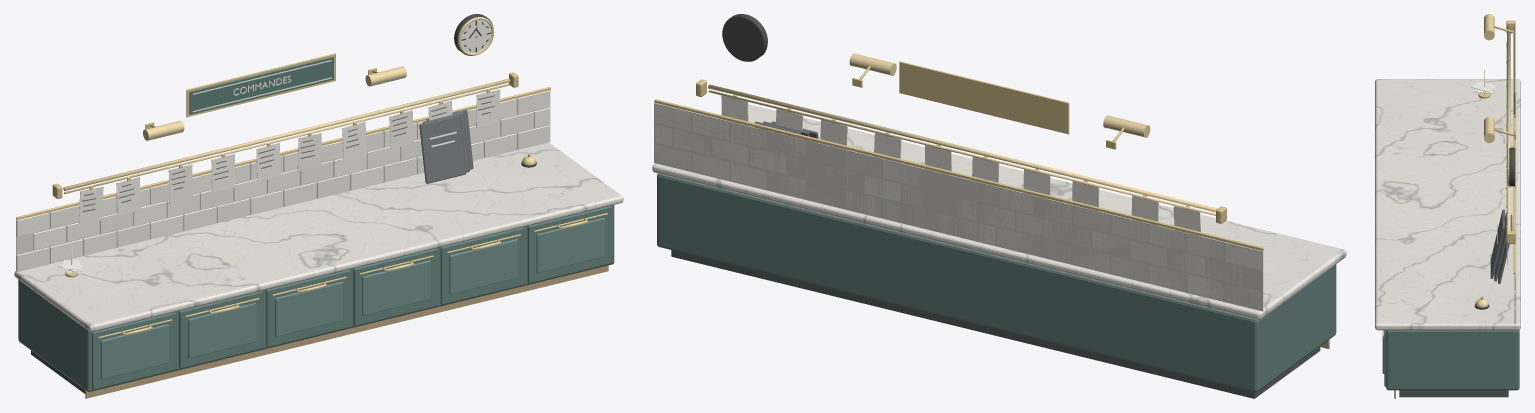
Rendered from order.glb.
3 views of the same model, side by side, from view 1: azimuth 30°, elevation 25°; view 2: azimuth 150°, elevation 25°; view 3: azimuth 270°, elevation 25° (orthographic). The views are drawn at different scales.
Visible parts, largest first — view 1: order_carrara_back, order, order_green_lacquer, order_green_lacquer_panel, order_brass, order_brass_polished, order_bronze, order_enamel_plaque, order_slate, order_splash_grout, order_ticket_ink, order_enamel_ivory (+1 smaller); view 2: order_green_lacquer, order, order_splash_grout, order_carrara_back, order_brass, order_plinth, order_brass_polished, order_clock_body; view 3: order_carrara_back, order_green_lacquer, order_brass_polished, order_brass, order_slate, order_plinth, order, order_clock_body, order_enamel_plaque.
Part boxes in pixels (x1,y1,x2,y2): order_carrara_back: (14, 142, 623, 331); order: (16, 89, 550, 273); order_green_lacquer: (18, 205, 614, 391); order_green_lacquer_panel: (100, 218, 604, 379); order_brass: (16, 35, 607, 338); order_brass_polished: (63, 17, 587, 335); order_bronze: (85, 265, 608, 398); order_enamel_plaque: (189, 56, 333, 114); order_slate: (419, 109, 473, 183); order_splash_grout: (16, 98, 550, 272); order_ticket_ink: (82, 95, 494, 211); order_enamel_ivory: (192, 60, 331, 112); order_green_lacquer: (657, 173, 1336, 392); order: (655, 95, 1261, 309); order_splash_grout: (654, 103, 1263, 311); order_carrara_back: (652, 104, 1346, 319); order_brass: (654, 61, 1263, 251); order_plinth: (671, 250, 1320, 398); order_brass_polished: (708, 15, 1217, 212); order_clock_body: (722, 14, 767, 61); order_carrara_back: (1375, 79, 1520, 330); order_green_lacquer: (1384, 330, 1519, 390); order_brass_polished: (1475, 14, 1510, 307); order_brass: (1382, 20, 1515, 335); order_slate: (1490, 209, 1512, 283); order_plinth: (1399, 390, 1508, 397); order: (1471, 81, 1515, 323); order_clock_body: (1474, 147, 1515, 309); order_enamel_plaque: (1513, 26, 1514, 114).
Bounding box in the file's own units: 4.8 × 1.97 × 1.2.
22 materials, 1 textured.
